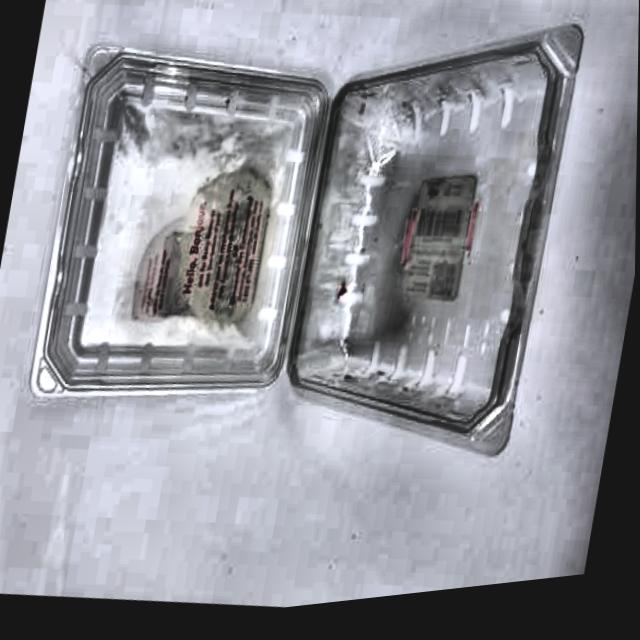Plastic: (11, 0, 615, 534)
